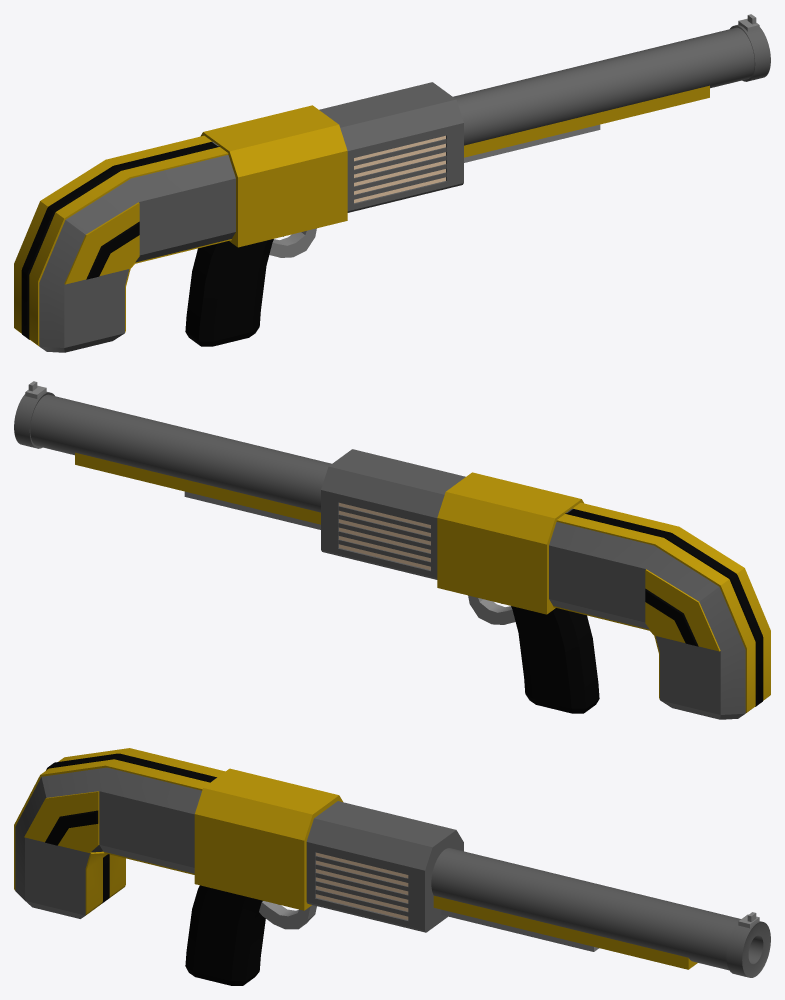
Rendered from gun.fbx.
3 renders of one model, top to bottom at view 1: azimuth 30°, elevation 25°; view 2: azimuth 150°, elevation 25°; view 3: azimuth 330°, elevation 25°, orthographic.
Visible parts, largest first — view 1: Cube.007, Cylinder, Cube.006, Cube.001, Cube.005, Cube; view 2: Cube.007, Cylinder, Cube.006, Cube.001, Cube.005, Cube; view 3: Cube.007, Cylinder, Cube.001, Cube.006, Cube.005, Cube.
Boxes of the visible parts, box(x1,y1,x2,y2) form: Cube.007: box(14, 135, 235, 352); Cylinder: box(453, 25, 770, 145); Cube.006: box(200, 105, 347, 247); Cube.001: box(319, 82, 463, 212); Cube.005: box(185, 228, 316, 346); Cube: box(464, 85, 709, 162); Cube.007: box(549, 502, 770, 719); Cylinder: box(14, 392, 331, 512); Cube.006: box(437, 472, 583, 614); Cube.001: box(321, 449, 465, 579); Cube.005: box(468, 595, 599, 713); Cube: box(75, 452, 320, 529); Cube.007: box(14, 748, 225, 918); Cylinder: box(431, 848, 770, 977); Cube.001: box(306, 801, 463, 932); Cube.006: box(194, 768, 342, 910); Cube.005: box(185, 885, 316, 985); Cube: box(433, 895, 697, 969).
Bounding box in the file's own units: 707 × 180 × 72.38.
